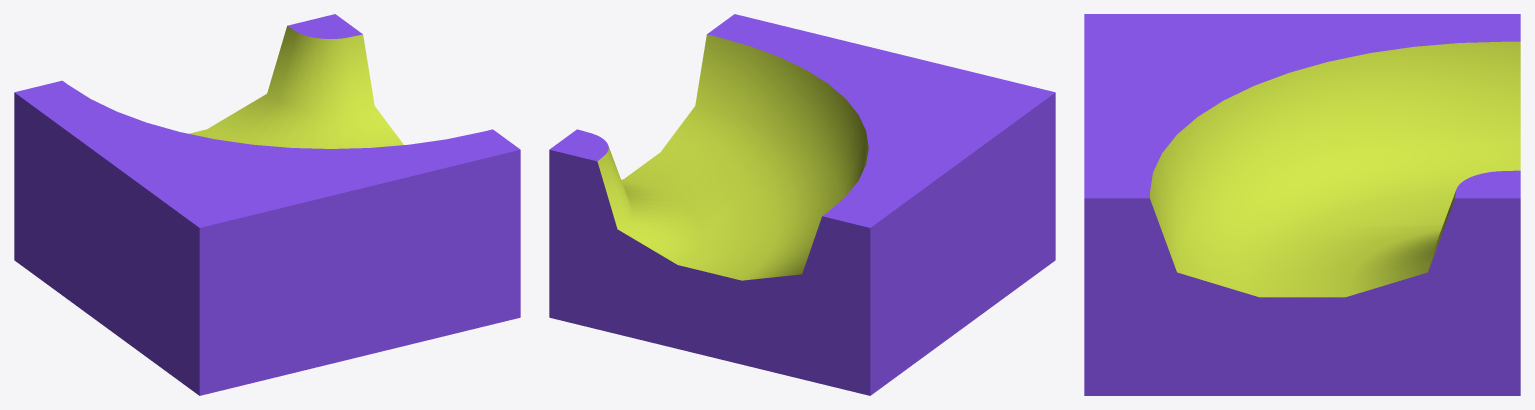
The model's file is corner_solid.dae.
3 renders of one model, left to right at view 1: azimuth 30°, elevation 25°; view 2: azimuth 150°, elevation 25°; view 3: azimuth 270°, elevation 25°, orthographic. The views are drawn at different scales.
Parts seen in each view (by area): view 1: corner_solid; view 2: corner_solid; view 3: corner_solid.
Part boxes in pixels (x1=…): corner_solid: x1=14, y1=14, x2=520, y2=395; corner_solid: x1=549, y1=14, x2=1055, y2=395; corner_solid: x1=1084, y1=14, x2=1520, y2=395.
Size of the model in its own units: 1 by 0.5 by 1.
